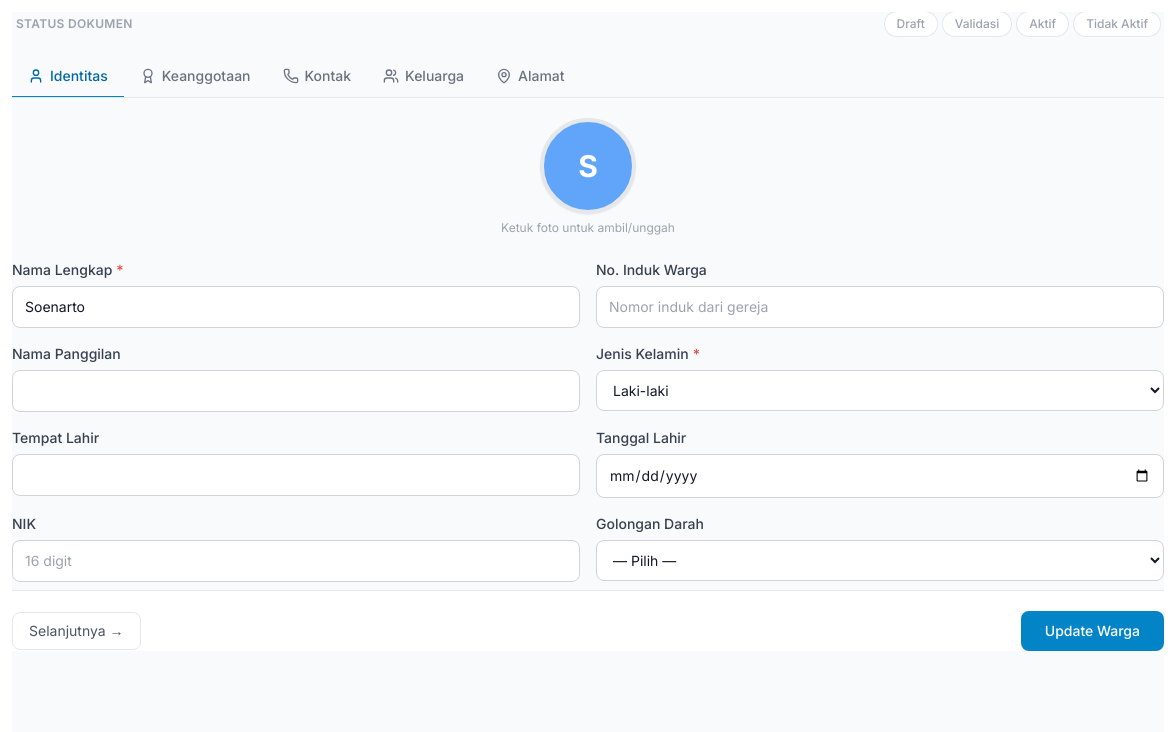
Test: WargaForm — alamat KK untuk Kepala Keluarga yang sudah punya KK › alamat KK tersimpan dimuat ke tab Alamat saat edit (tidak kosong)
The width and height of the screenshot is (1176, 732).
Click the button "Alamat".
click(530, 77)  # box [480,56,581,98]
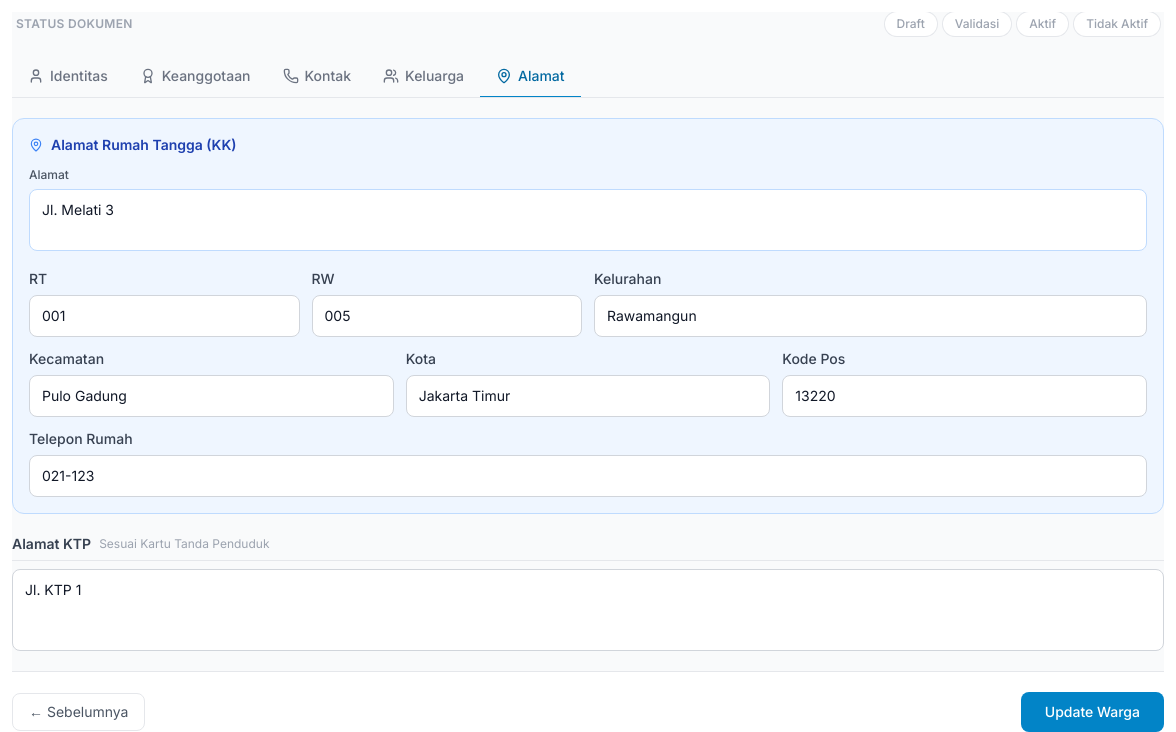
Expected: the text box showing "Jl. Melati 3" below "Alamat Rumah Tangga (KK)" is shown, [29,189,1147,251]
Expected: the field showing "Rawamangun" below "Kelurahan" is shown, [594,295,1147,337]
Expected: the field showing "13220" below "Kode Pos" is shown, [782,375,1147,417]
